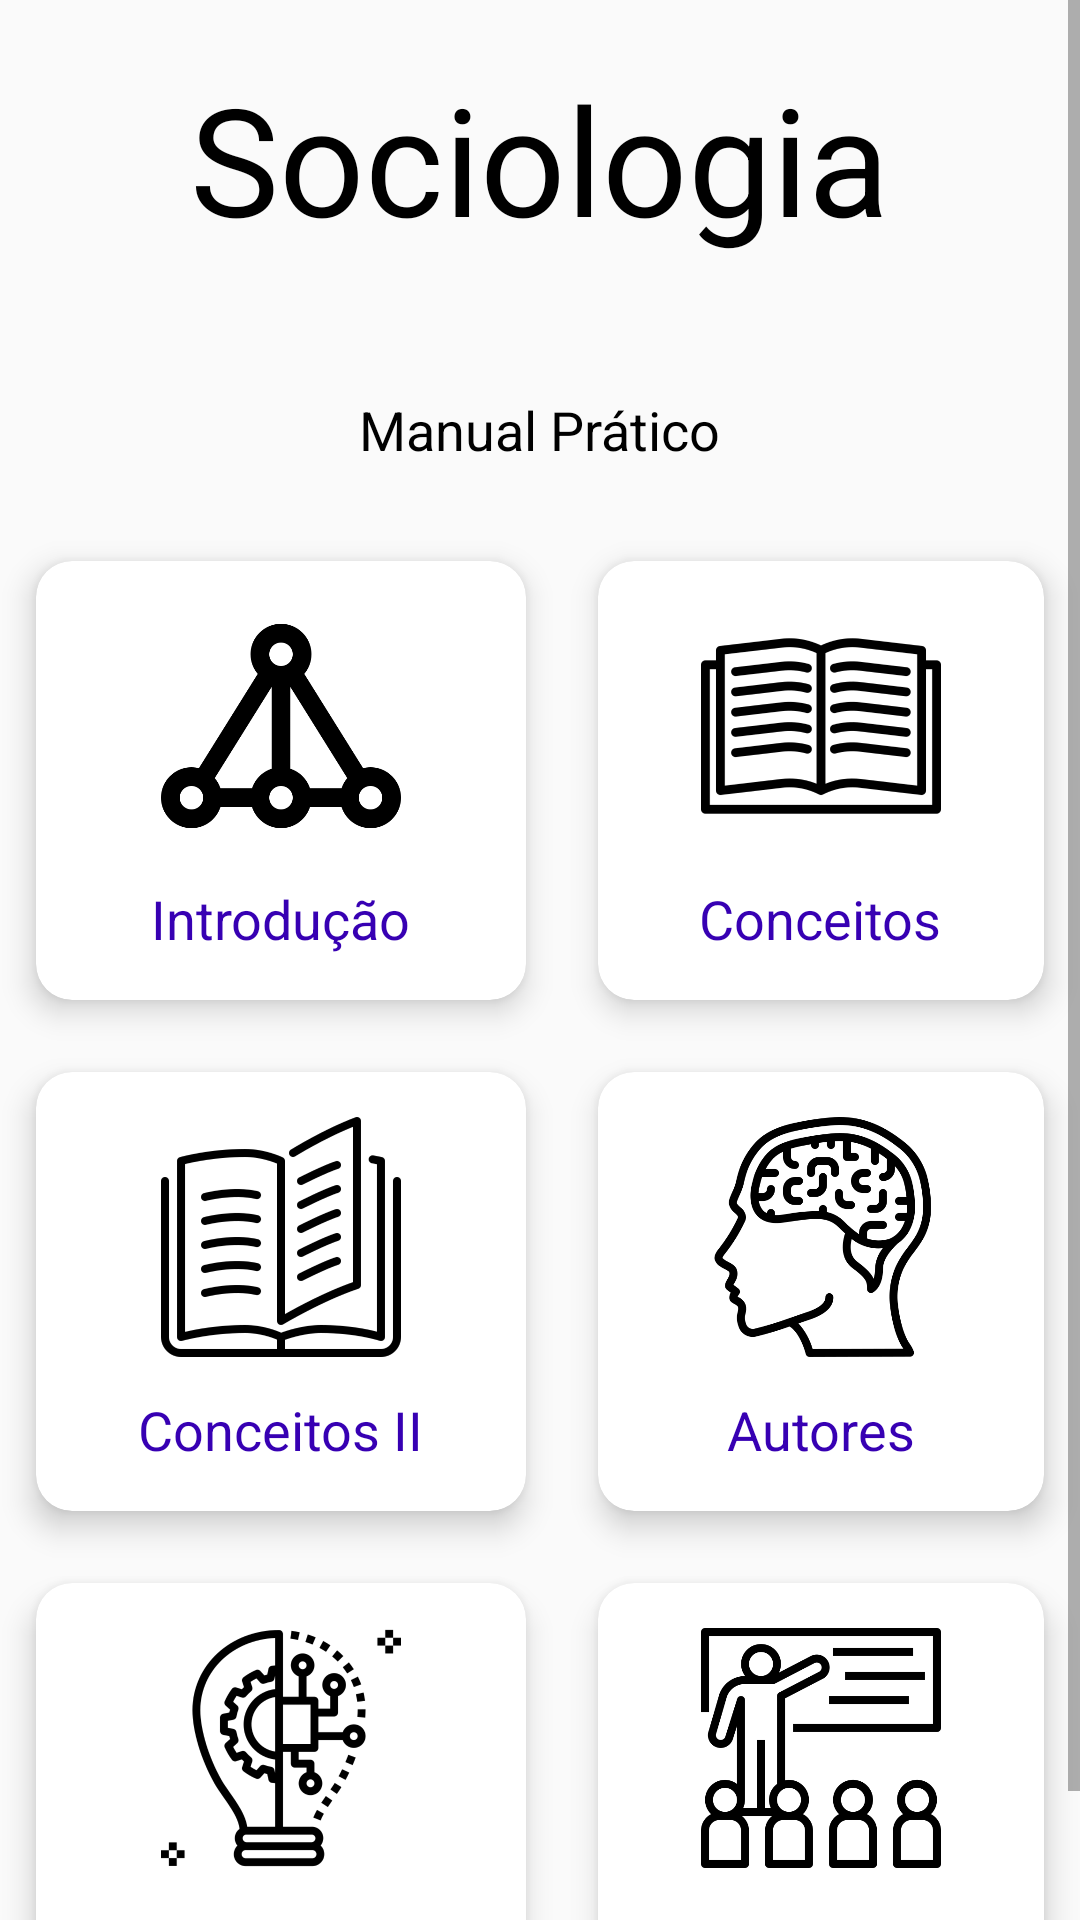

Icons on this 1080 × 1920 Android screen, each with its box as detection(x1, y1, x2, y2):
book: detection(701, 638, 941, 814), detection(161, 1117, 401, 1357)
brain: detection(714, 1117, 931, 1357)
education: detection(701, 1628, 941, 1868)
innovation: detection(161, 1629, 401, 1867)
sociology: detection(161, 624, 401, 828)
